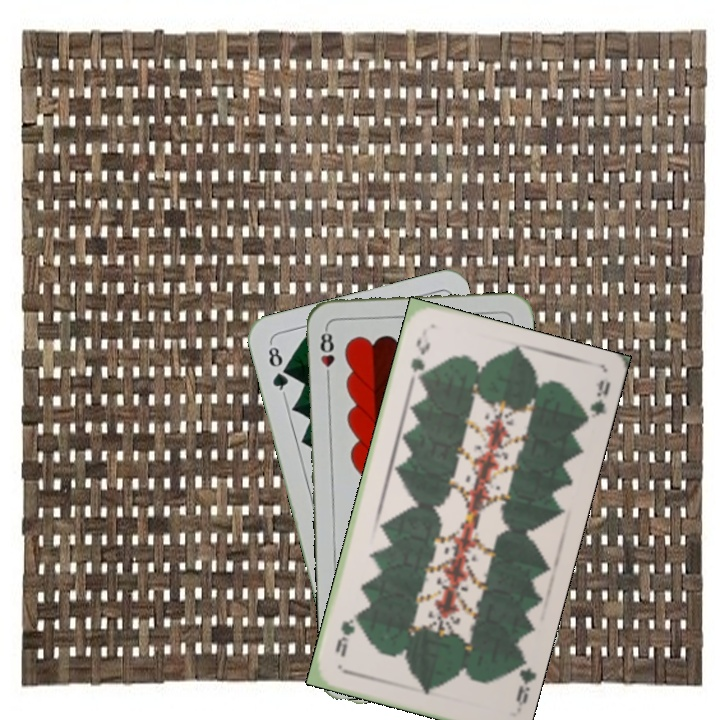G8: (264, 339, 291, 398)
G9: (509, 654, 537, 714), (405, 334, 433, 385)
H8: (316, 324, 337, 383)
